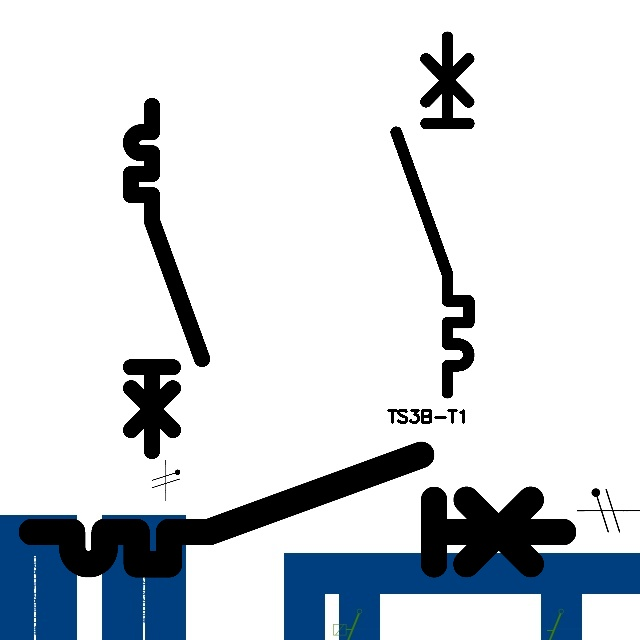interruptor_termomagnetico: (18, 441, 576, 578), (387, 28, 478, 402), (122, 97, 211, 460)
